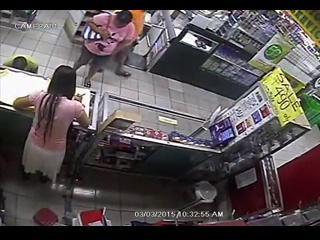Normal: (12, 66, 91, 190), (73, 10, 144, 88)
